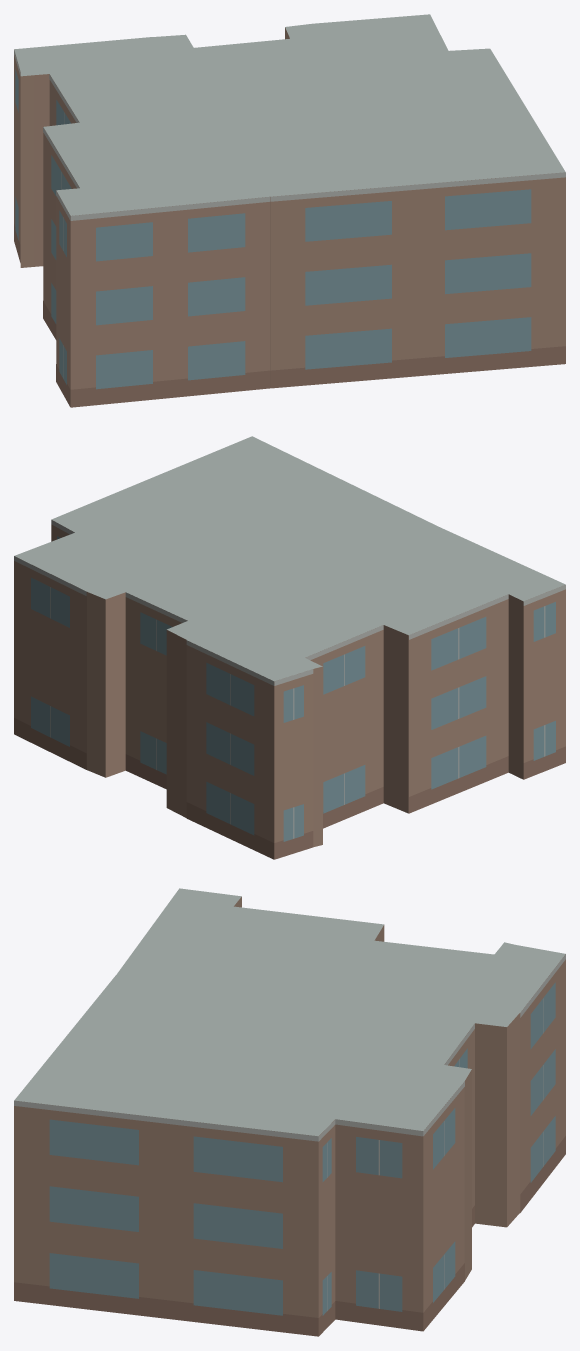
Rendered from survey-upis-32466256.glb.
The picture shows the model from 3 angles, top to bottom: view 1: azimuth 30°, elevation 25°; view 2: azimuth 150°, elevation 25°; view 3: azimuth 270°, elevation 25°; orthographic projection. The views are drawn at different scales.
Visible parts, largest first — view 1: survey-upis-32466256.tmp; view 2: survey-upis-32466256.tmp; view 3: survey-upis-32466256.tmp.
Boxes of the visible parts, left/top/right/bottom form: survey-upis-32466256.tmp: left=14, top=14, right=565, bottom=407; survey-upis-32466256.tmp: left=14, top=436, right=565, bottom=859; survey-upis-32466256.tmp: left=14, top=888, right=565, bottom=1336.
Bounding box in the file's own units: 24.3 × 9.15 × 22.85.
